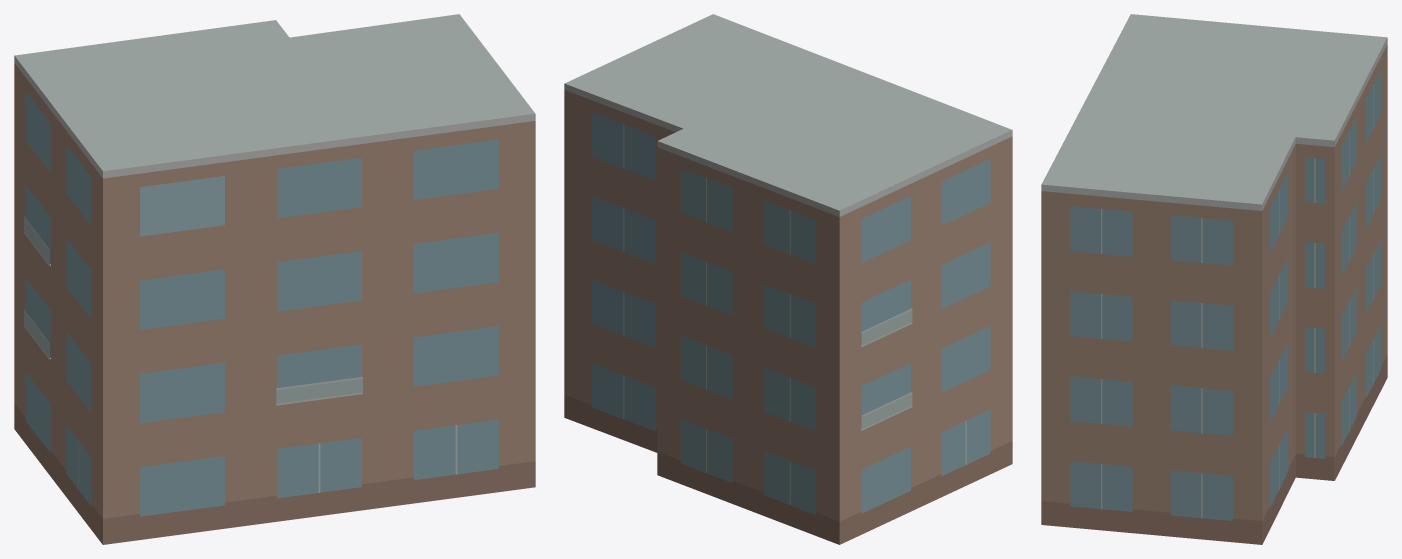
Rendered from survey-upis-32652869.glb.
3 renders of one model, left to right at view 1: azimuth 30°, elevation 25°; view 2: azimuth 150°, elevation 25°; view 3: azimuth 270°, elevation 25°, orthographic. The views are drawn at different scales.
Visible parts, largest first — view 1: survey-upis-32652869.tmp; view 2: survey-upis-32652869.tmp; view 3: survey-upis-32652869.tmp.
Part boxes in pixels (left/top/right/bottom): survey-upis-32652869.tmp: left=14, top=14, right=535, bottom=544; survey-upis-32652869.tmp: left=564, top=14, right=1012, bottom=544; survey-upis-32652869.tmp: left=1041, top=14, right=1387, bottom=544.
Size of the model in its own units: 15.38 by 12.8 by 11.81.
